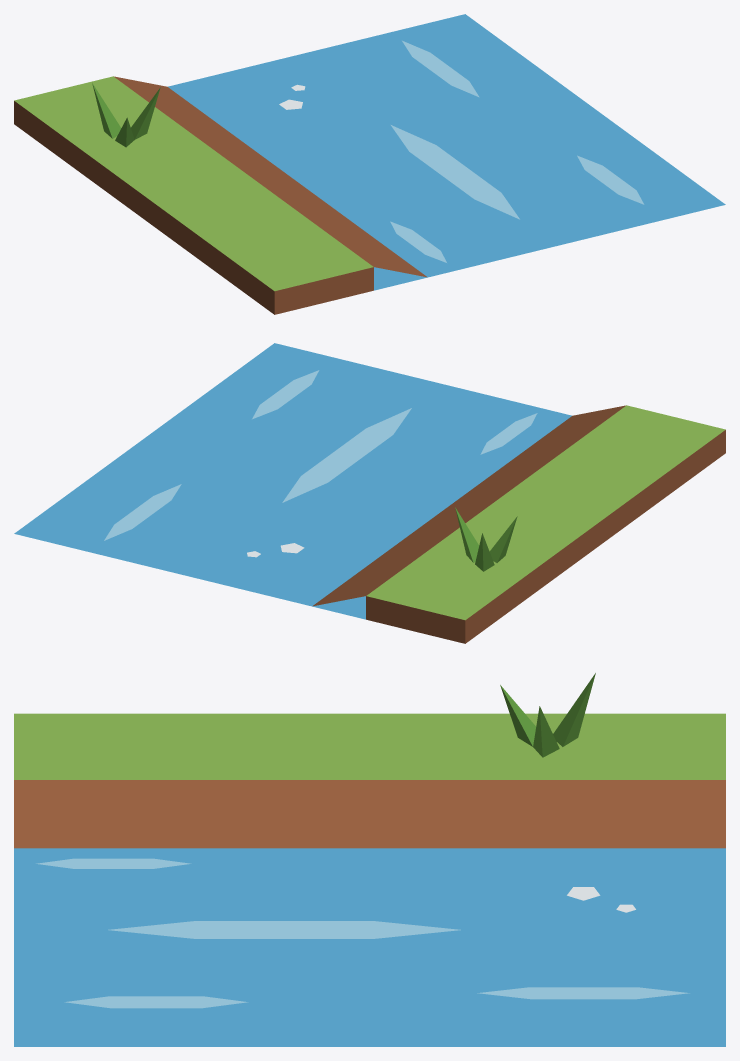
Rendered from water_river_bank.glb.
3 views of the same model, one above another, from view 1: azimuth 30°, elevation 25°; view 2: azimuth 150°, elevation 25°; view 3: azimuth 270°, elevation 25° (orthographic). The views are drawn at different scales.
Visible parts, largest first — view 1: water_river_bank; view 2: water_river_bank; view 3: water_river_bank.
Part boxes in pixels (x1,y1,x2,y2): water_river_bank: (14, 14, 725, 314); water_river_bank: (14, 343, 725, 643); water_river_bank: (14, 673, 725, 1046).
Size of the model in its own units: 1 by 0.1461 by 1.
1 material, 1 textured.
